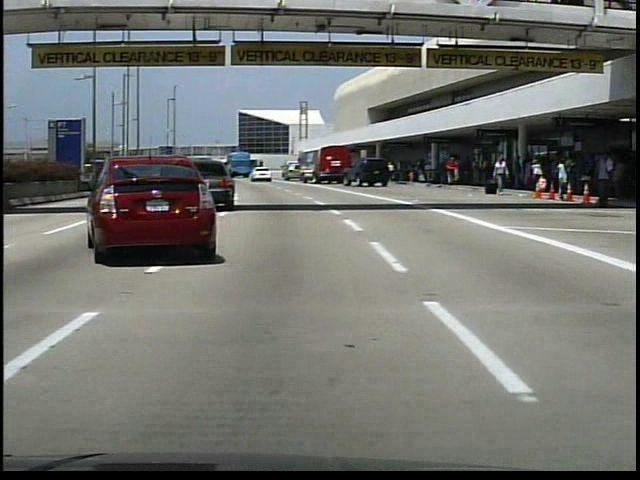person: (592, 155, 611, 206), (490, 154, 511, 196), (444, 156, 460, 185), (385, 161, 397, 183)
